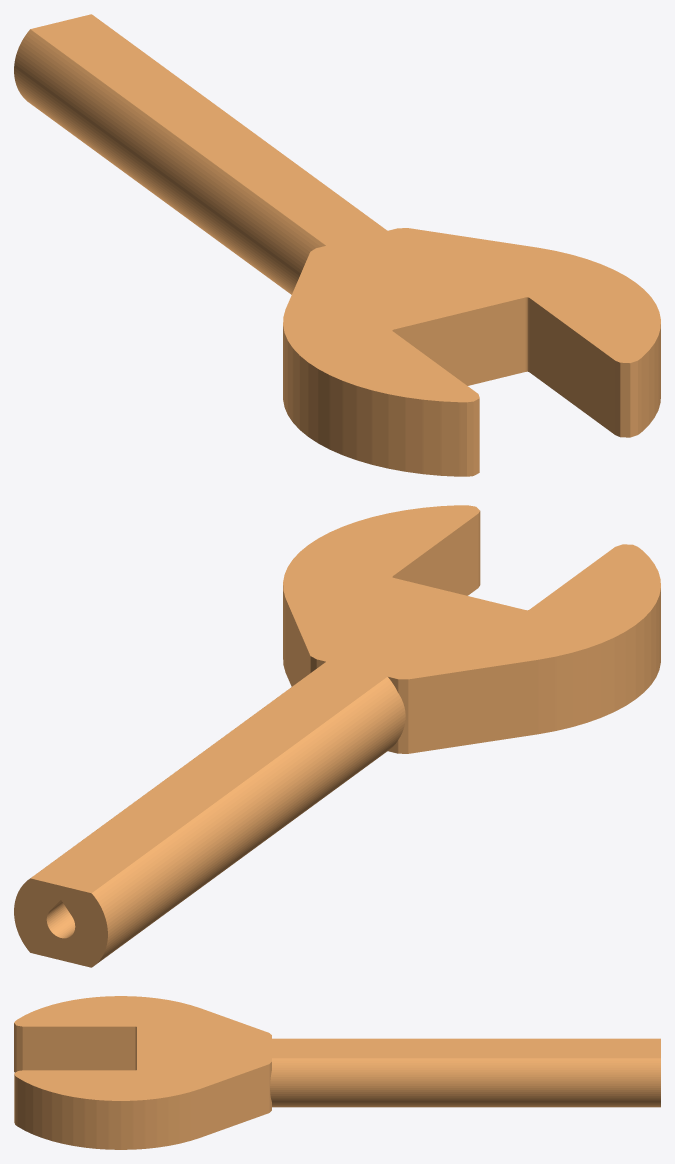
File: prop-wrench.glb
3 views of the same model, one above another, from view 1: azimuth 30°, elevation 25°; view 2: azimuth 150°, elevation 25°; view 3: azimuth 270°, elevation 25° (orthographic). The views are drawn at different scales.
Visible parts, largest first — view 1: prop-wrench; view 2: prop-wrench; view 3: prop-wrench.
Part boxes in pixels (left/top/right/bottom): prop-wrench: left=14, top=14, right=660, bottom=476; prop-wrench: left=14, top=505, right=660, bottom=967; prop-wrench: left=14, top=996, right=660, bottom=1149.
Bounding box in the file's own units: 0.023 × 0.005 × 0.0599.
